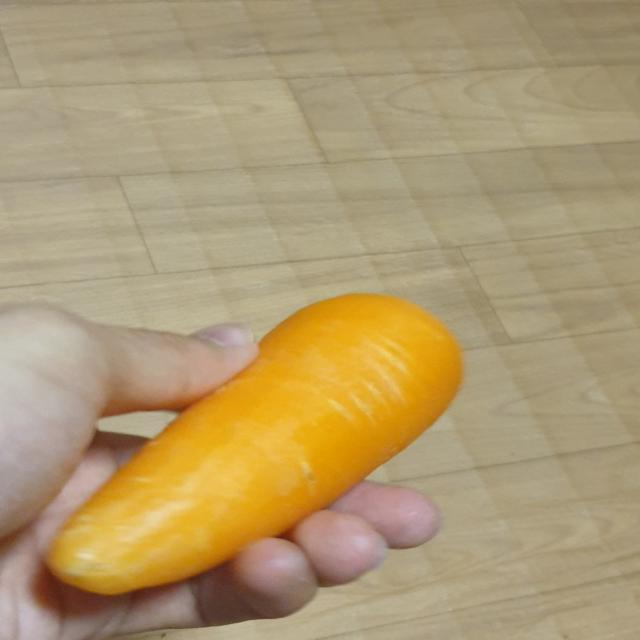Carrot: (37, 279, 471, 610)
